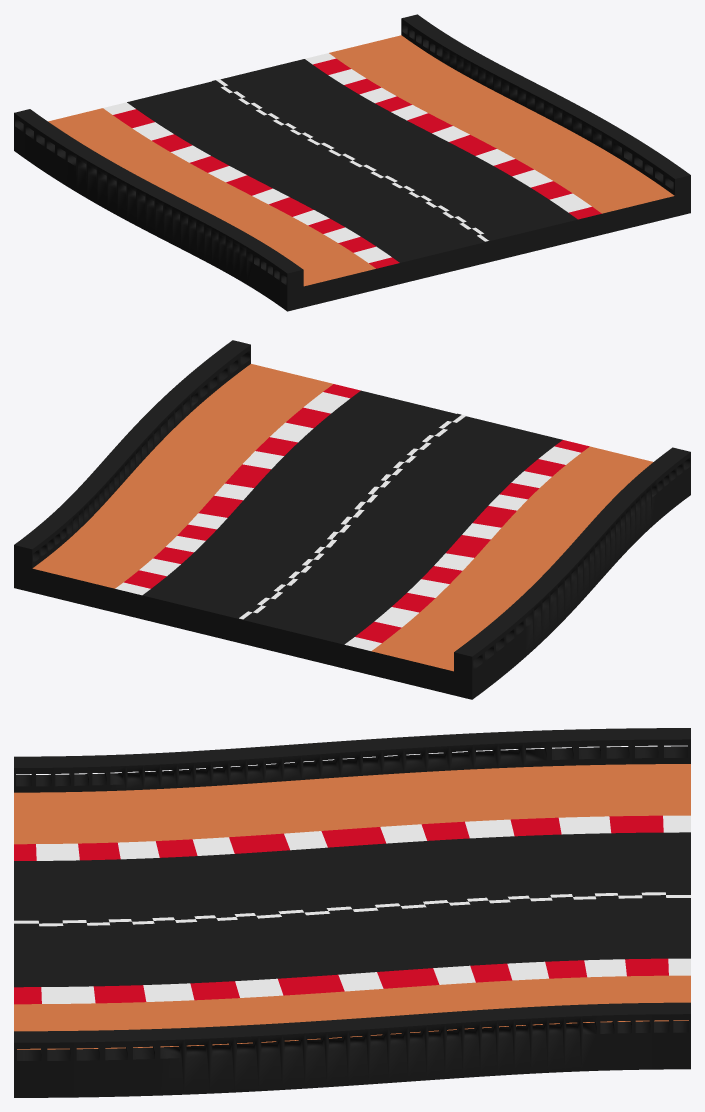
Rendered from ModularTrackCantSmallLeft-Deux.fbx.
3 views of the same model, one above another, from view 1: azimuth 30°, elevation 25°; view 2: azimuth 150°, elevation 25°; view 3: azimuth 270°, elevation 25° (orthographic). The views are drawn at different scales.
Parts seen in each view (by area): view 1: ModularTrackCantSmallLeft, LaneDivider.000; view 2: ModularTrackCantSmallLeft, LaneDivider.000; view 3: ModularTrackCantSmallLeft, LaneDivider.000.
Part boxes in pixels (x1,y1,x2,y2): ModularTrackCantSmallLeft: (14,14,690,311); LaneDivider.000: (212,79,492,241); ModularTrackCantSmallLeft: (14,340,690,699); LaneDivider.000: (239,413,465,620); ModularTrackCantSmallLeft: (14,728,690,1097); LaneDivider.000: (14,892,690,926).
Size of the model in its own units: 1100 by 90 by 1000.
